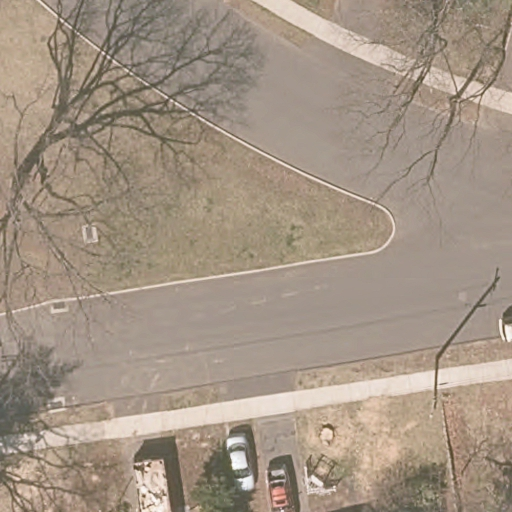DT: (428, 356, 448, 409)
